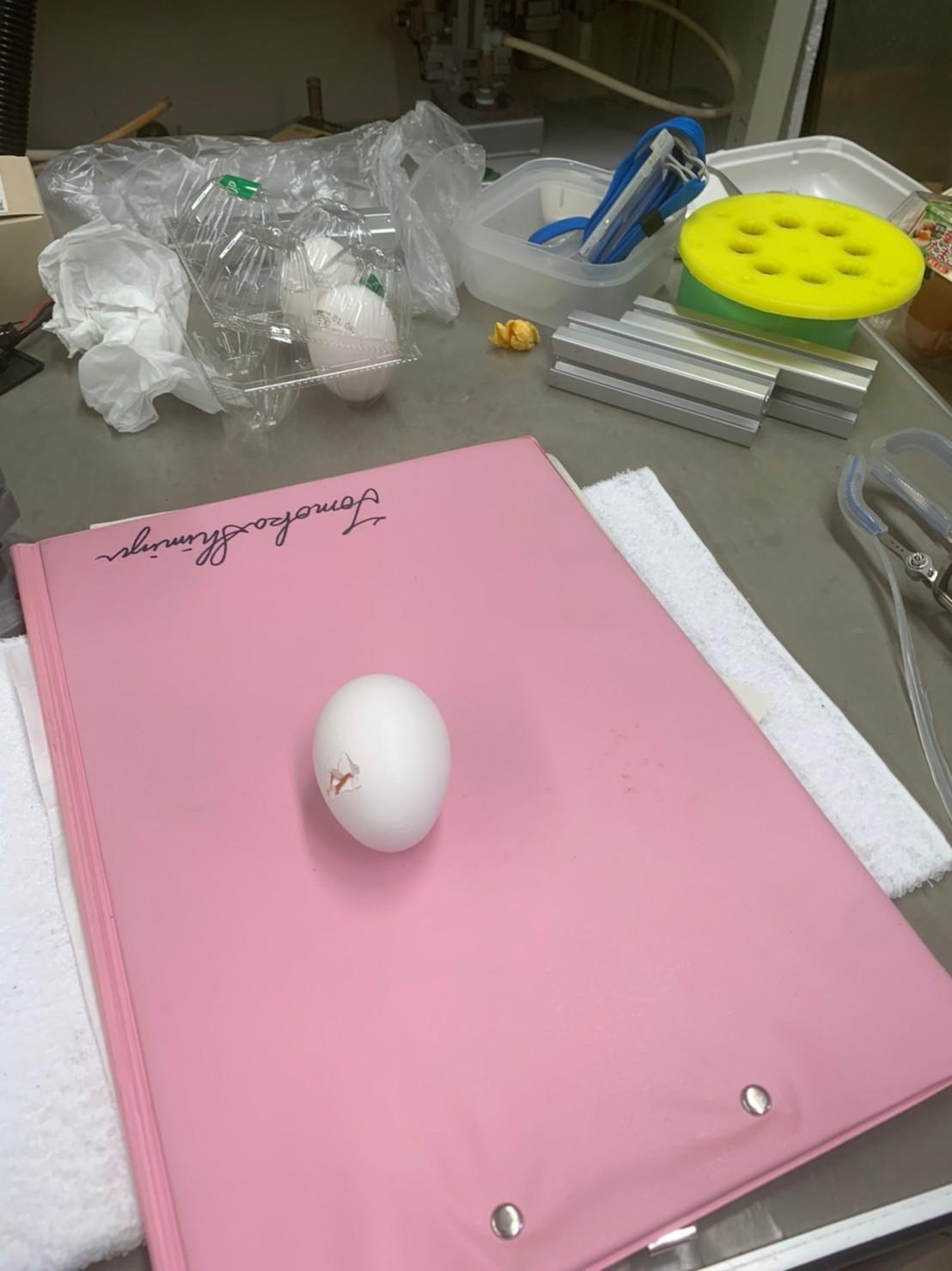egg: (312, 669, 454, 856)
